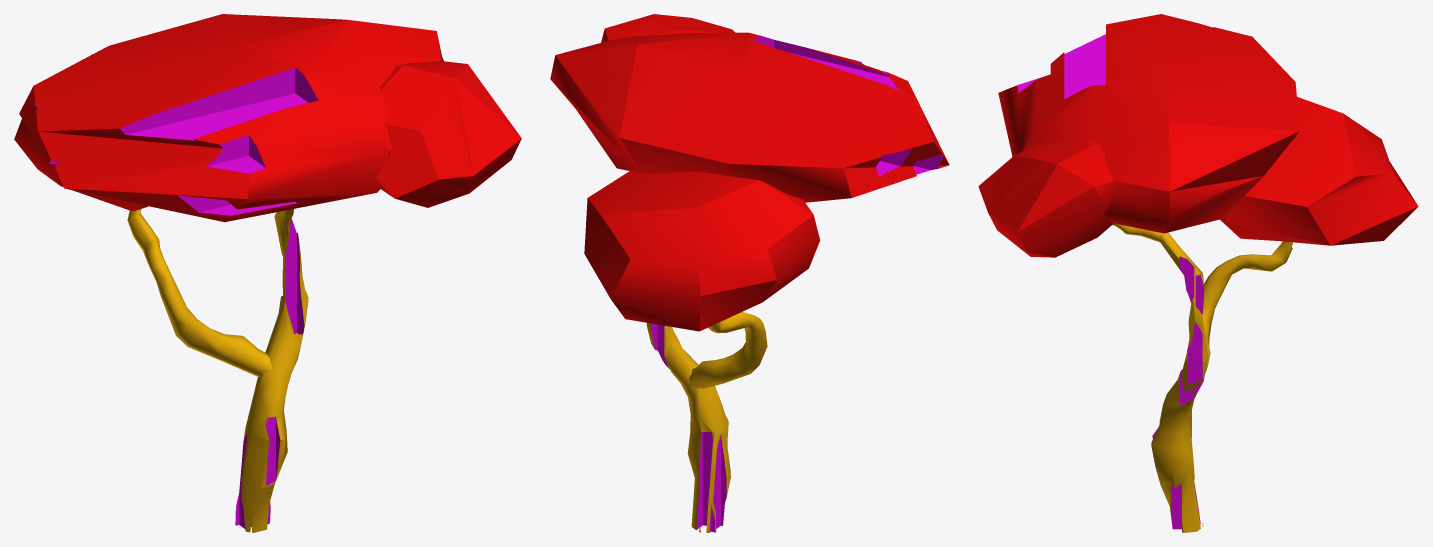
File: Tree_3_Glitch.fbx
3 renders of one model, left to right at view 1: azimuth 30°, elevation 25°; view 2: azimuth 150°, elevation 25°; view 3: azimuth 270°, elevation 25°, orthographic. The views are drawn at different scales.
Parts seen in each view (by area): view 1: Tree_3_Glitch; view 2: Tree_3_Glitch; view 3: Tree_3_Glitch.
Part boxes in pixels (x1=…): Tree_3_Glitch: x1=14, y1=14, x2=521, y2=532; Tree_3_Glitch: x1=550, y1=14, x2=949, y2=532; Tree_3_Glitch: x1=978, y1=14, x2=1418, y2=532.
Size of the model in its own units: 6.47 by 7.47 by 6.73.
